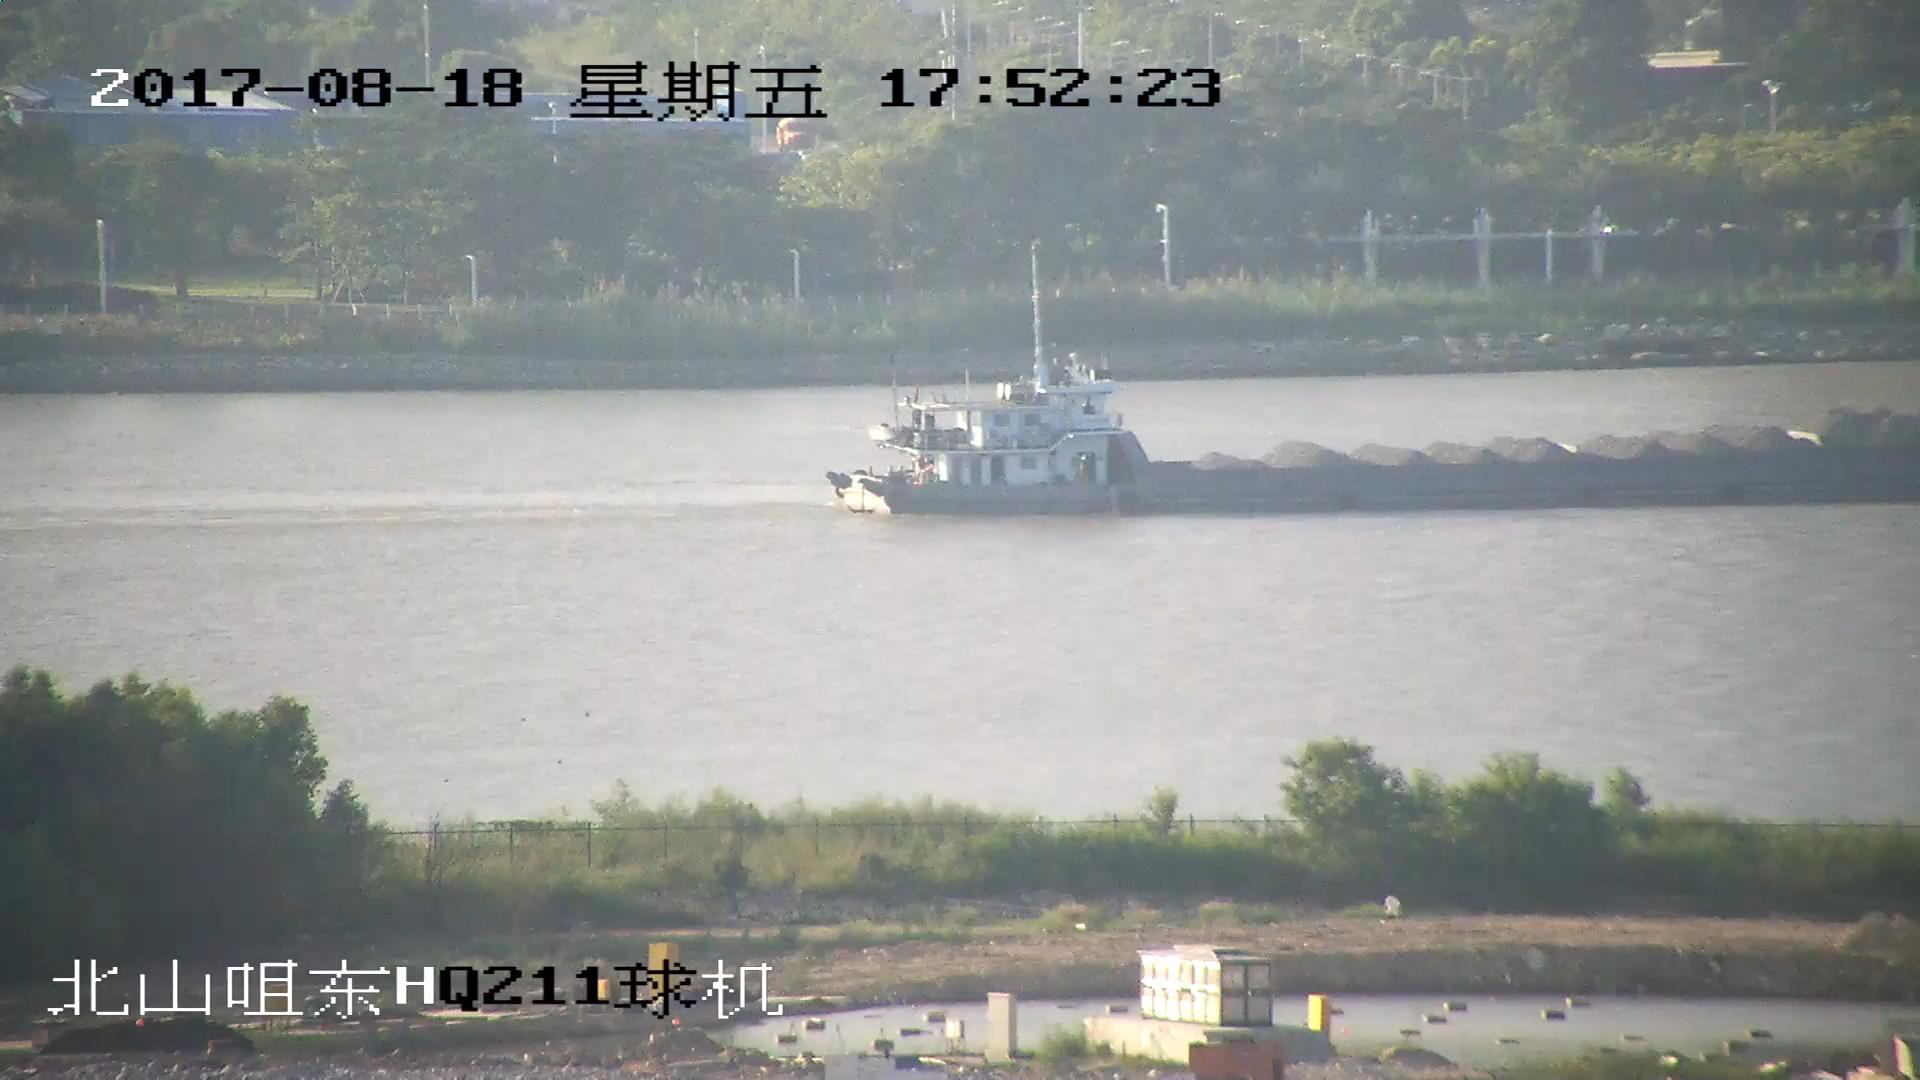Ship: (828, 284, 1920, 518)
